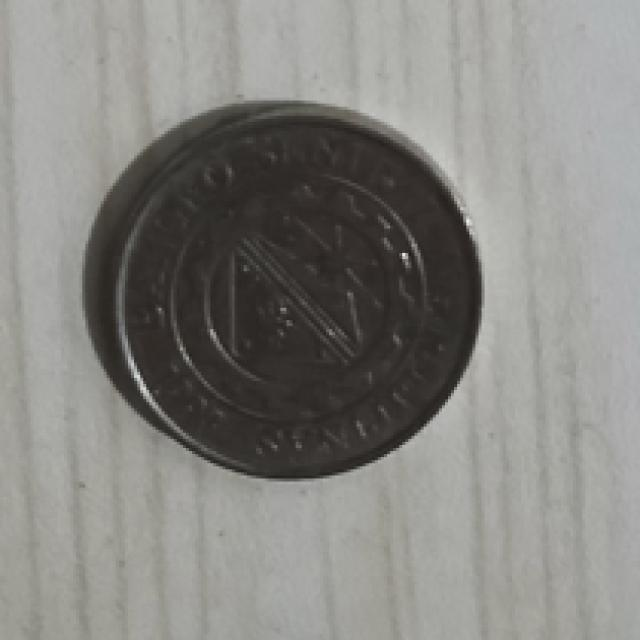1_peso: (91, 107, 478, 475)
